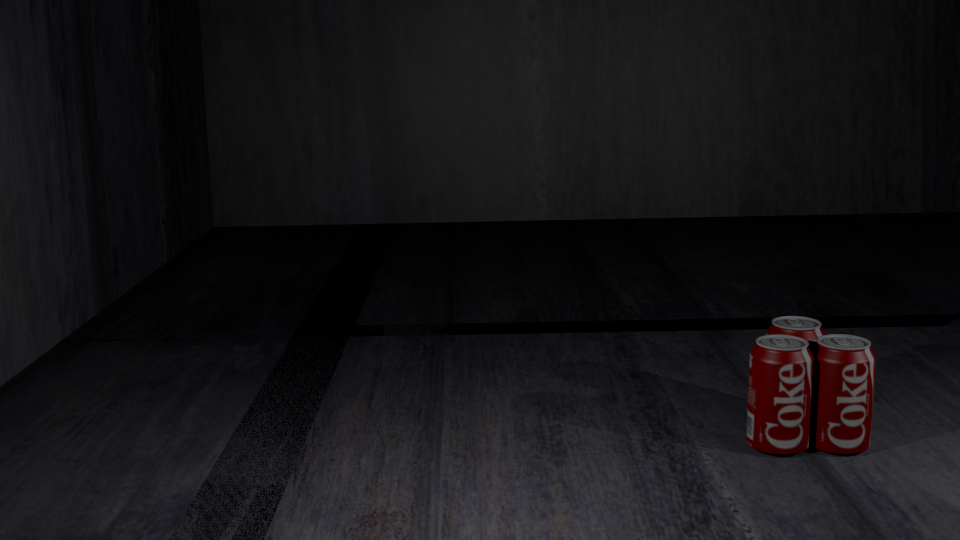cola_can: (748, 335, 813, 451), (810, 334, 875, 449), (767, 316, 825, 426)
